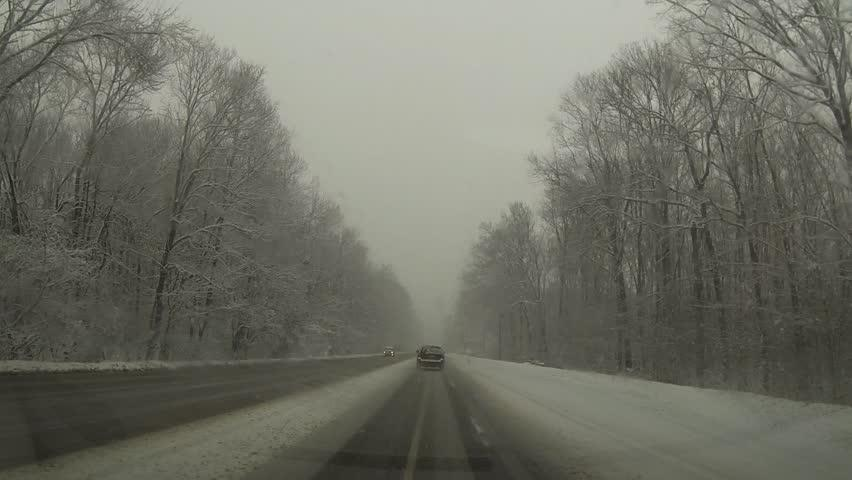car: (415, 343, 446, 370), (382, 345, 396, 357)
